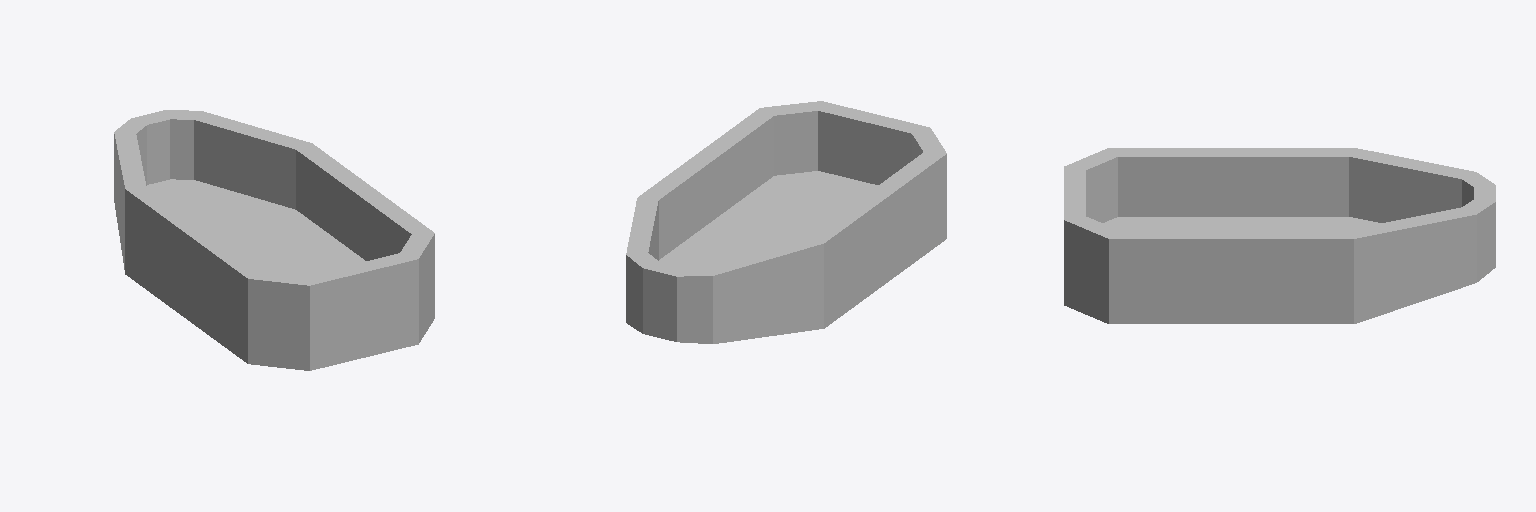
The model's file is hull.obj.
The picture shows the model from 3 angles: view 1: azimuth 30°, elevation 25°; view 2: azimuth 150°, elevation 25°; view 3: azimuth 270°, elevation 25°; orthographic projection.
Visible parts, largest first — view 1: Cube; view 2: Cube; view 3: Cube.
Boxes of the visible parts, x1=… form: Cube: x1=114, y1=110, x2=434, y2=370; Cube: x1=626, y1=101, x2=946, y2=343; Cube: x1=1064, y1=148, x2=1495, y2=323.
Bounding box in the file's own units: 2 × 1.28 × 4.